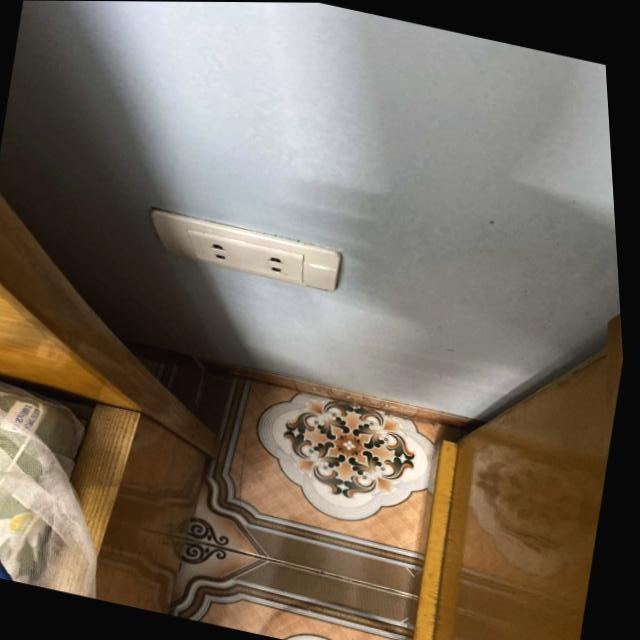outlet: (141, 209, 345, 295)
